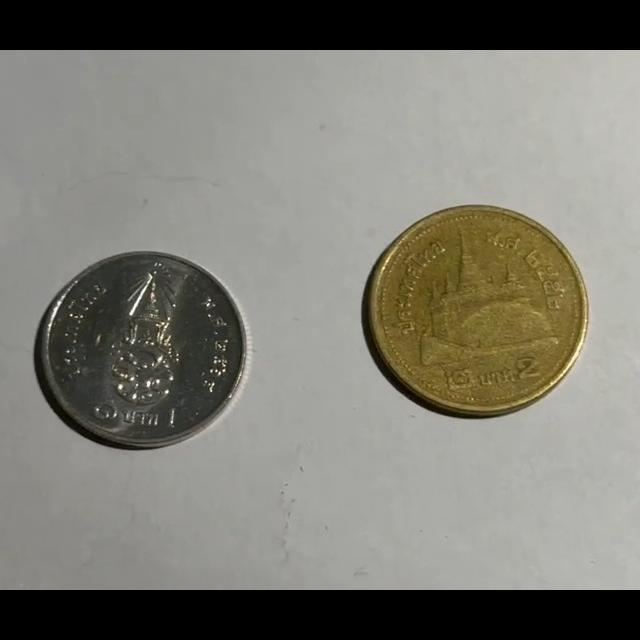1-baht: (34, 250, 249, 450)
2-baht: (365, 206, 585, 416)
